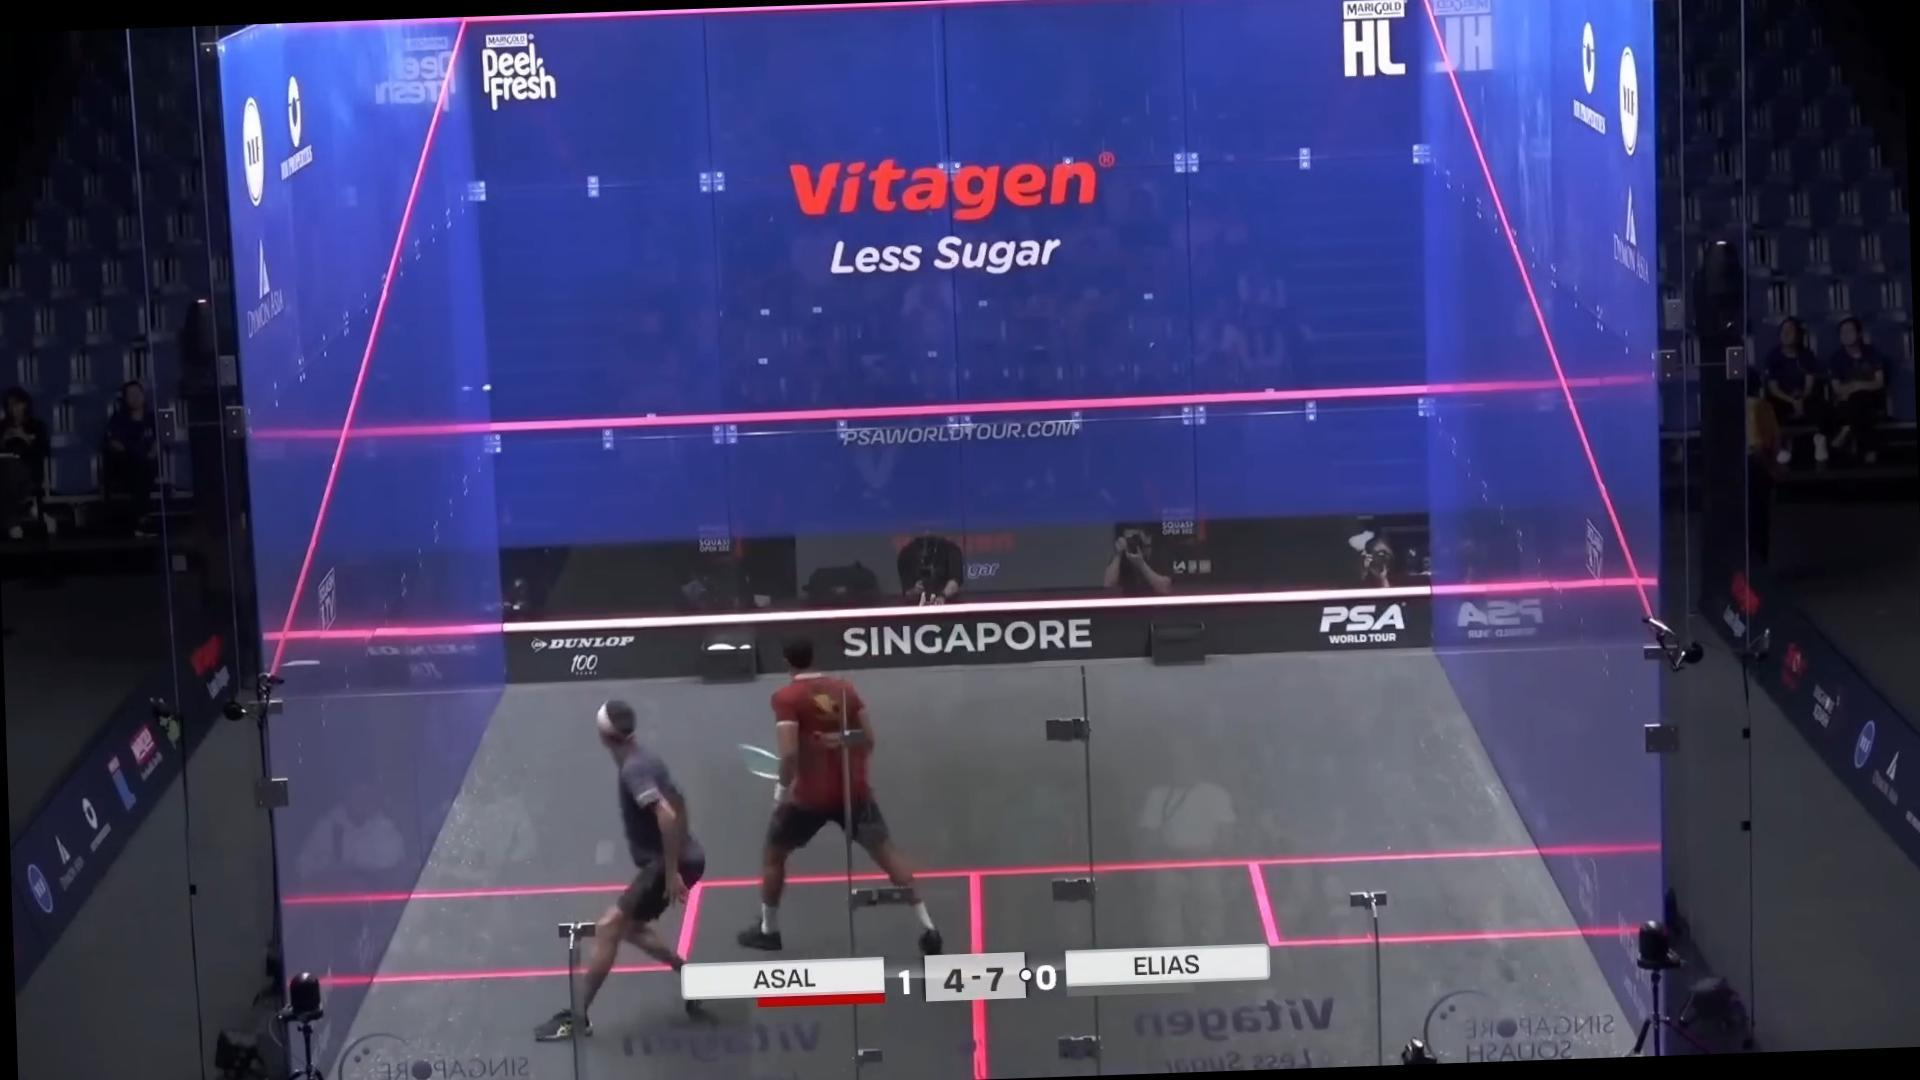Squash-Ball: (469, 369, 505, 410)
